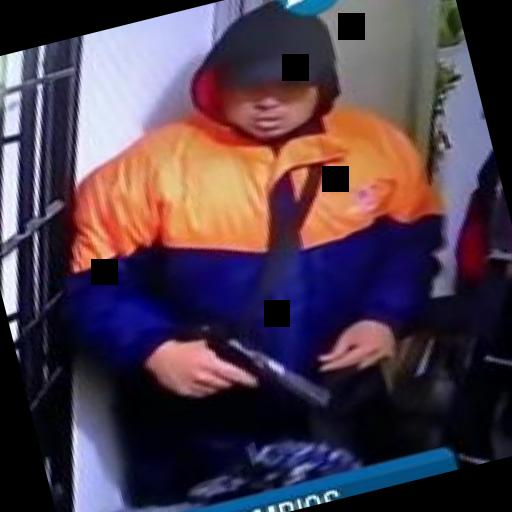Handgun: (164, 308, 342, 445)
